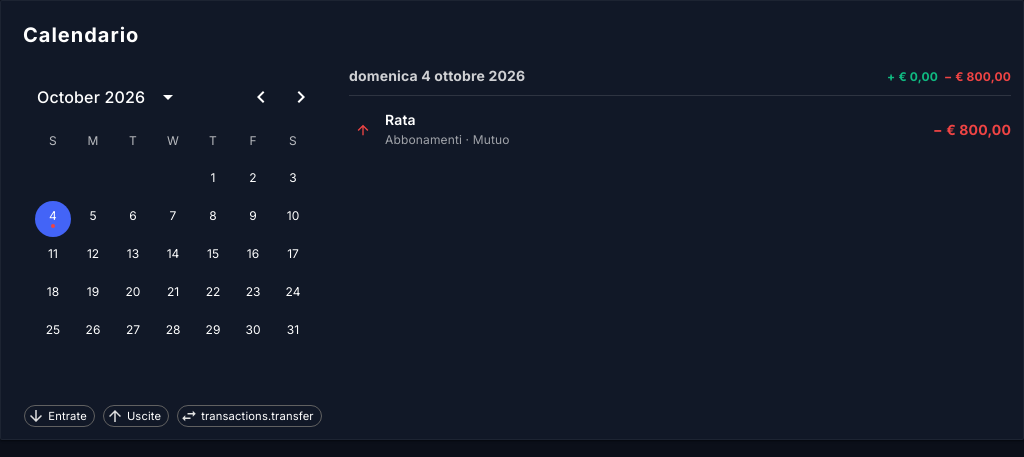
Test: MonthCalendar › shows the empty state for a day without transactions
Check: the text "Rata" is shown, box x1=385 y1=111 x2=416 y2=128
Click the text "27" at (133, 333), box x1=115 y1=315 x2=151 y2=351
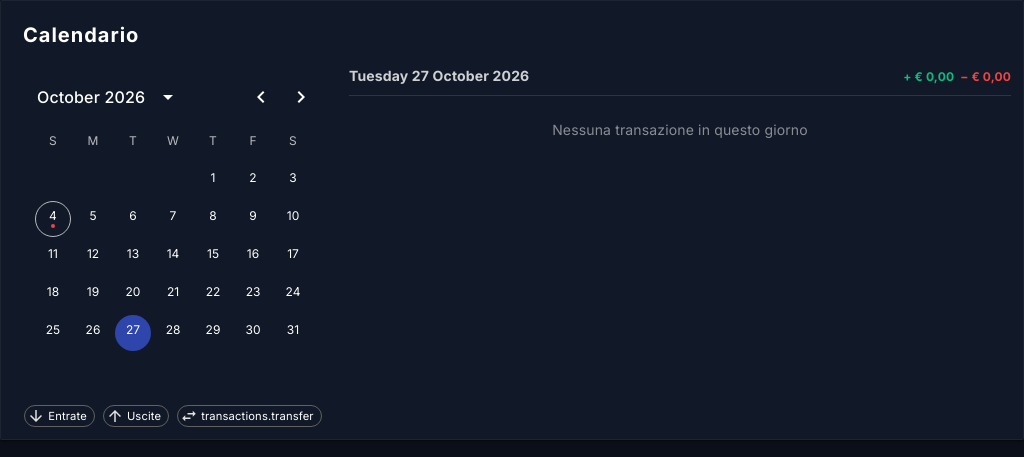
Check: the text "Nessuna transazione in questo giorno" is shown, box x1=552 y1=121 x2=808 y2=138
Check: the text "Rata" is gone
